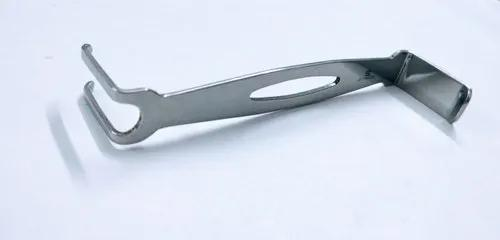Czerney Retractor: (70, 29, 476, 146)
